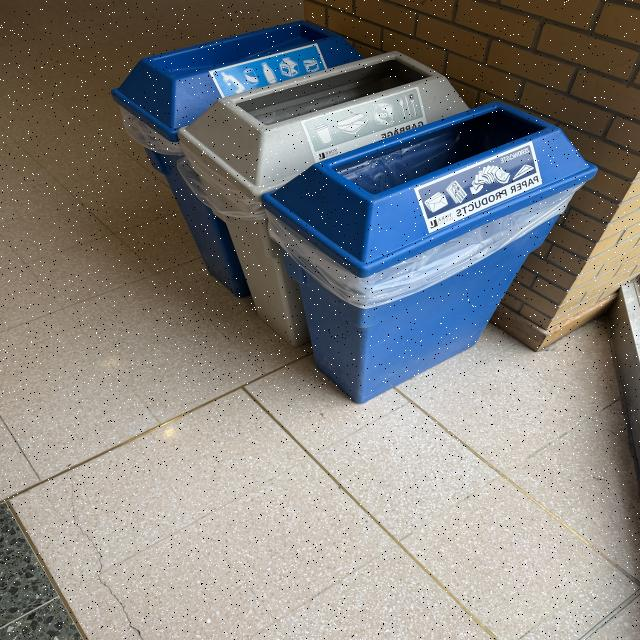Dustbin: (110, 18, 600, 404)
